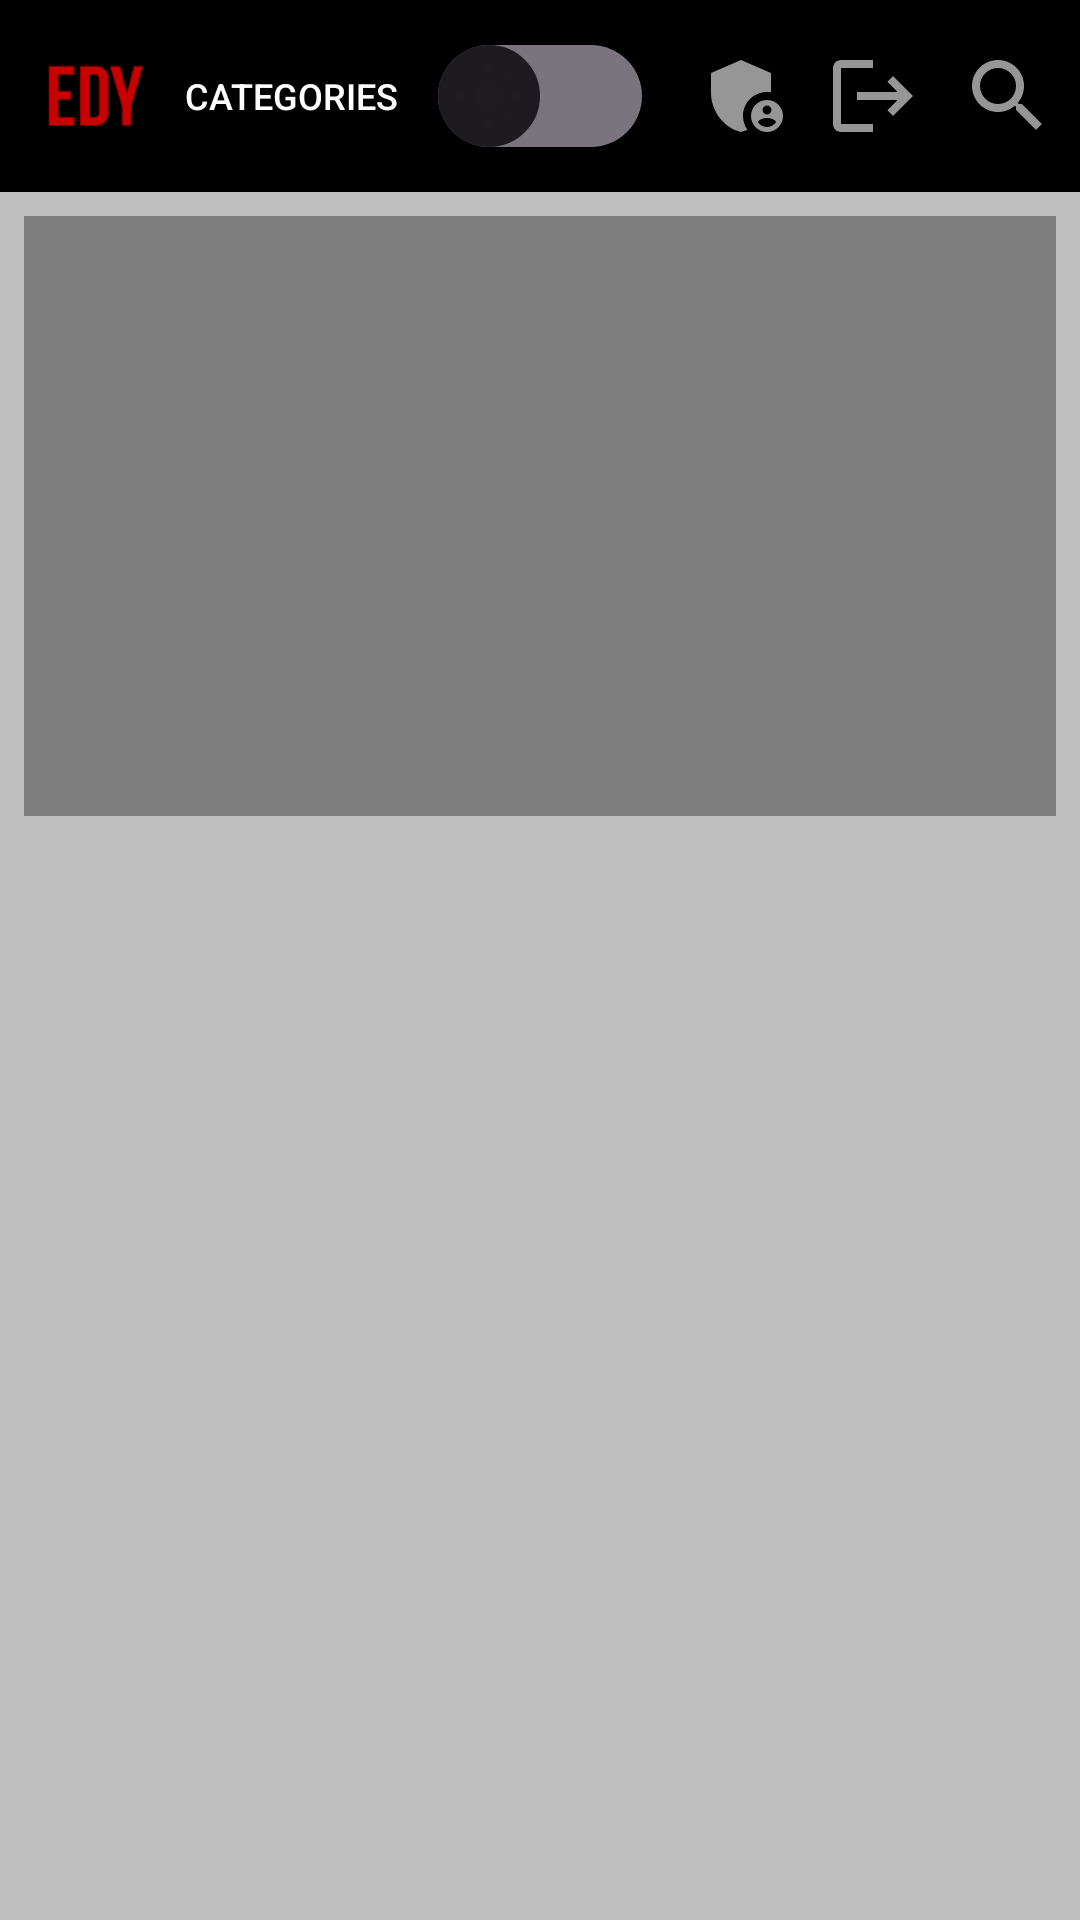

Icon bounding boxes for this 1080w x 1920h phone screenshot, format BBox(x1, y1, x2, y2):
Admin/Editor button: BBox(711, 60, 783, 132)
Search button: BBox(972, 60, 1042, 130)
